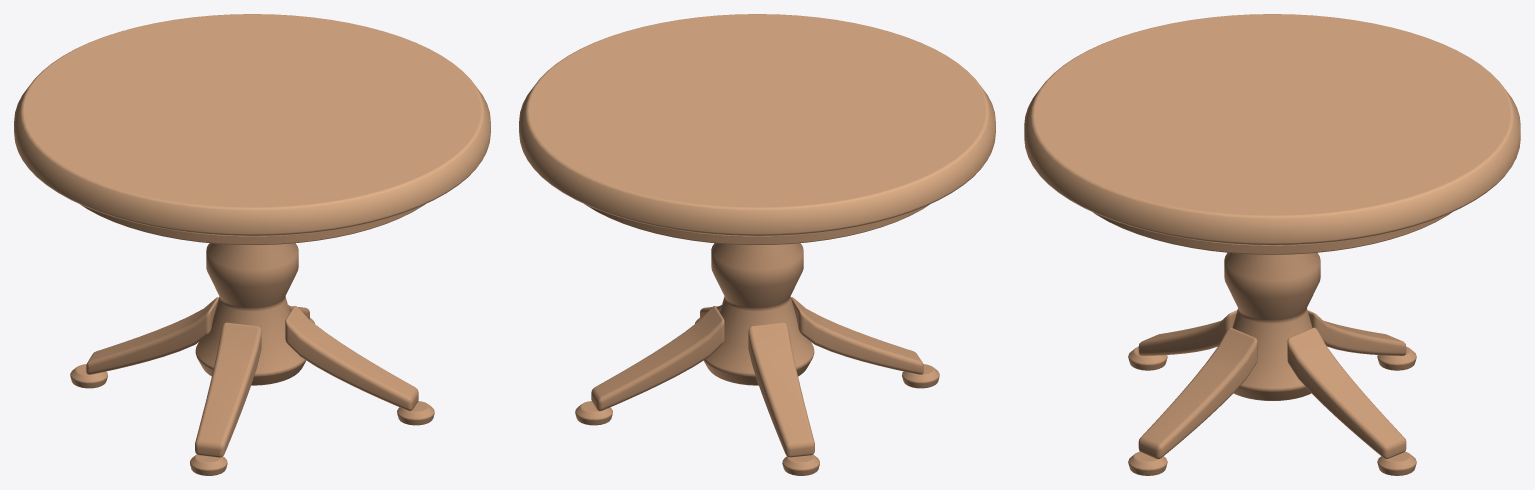
File: table.glb
3 views of the same model, side by side, from view 1: azimuth 30°, elevation 25°; view 2: azimuth 150°, elevation 25°; view 3: azimuth 270°, elevation 25° (orthographic). The views are drawn at different scales.
Visible parts, largest first — view 1: top, pedestal, foot2, foot3, foot1, apron, toe2, toe3, toe1; view 2: top, pedestal, foot1, foot0, foot2, apron, toe1, toe0, toe2; view 3: top, pedestal, foot0, foot3, apron, foot1, foot2, toe0, toe3, toe1, toe2.
Part boxes in pixels (x1,y1,x2,y2): top: (14,14,490,236); pedestal: (195,243,306,385); foot2: (195,322,261,457); foot3: (285,306,418,410); foot1: (86,297,218,374); apron: (80,204,425,245); toe2: (190,454,227,475); toe3: (397,401,434,425); toe1: (70,364,107,388); top: (519,14,995,236); pedestal: (703,243,814,385); foot1: (748,322,814,457); foot0: (591,306,724,411); foot2: (791,297,923,374); apron: (584,204,929,245); toe1: (782,454,819,475); toe0: (575,401,612,425); toe2: (902,364,939,388); top: (1024,14,1520,245); pedestal: (1224,252,1320,400); foot0: (1287,327,1406,458); foot3: (1138,327,1257,459); apron: (1093,212,1451,254); foot1: (1307,310,1406,355); foot2: (1138,310,1237,355); toe0: (1377,451,1416,475); toe3: (1128,451,1167,475); toe1: (1377,346,1416,370); toe2: (1128,346,1167,370).
Bounding box in the file's own units: 1.24 × 0.83 × 1.24.
